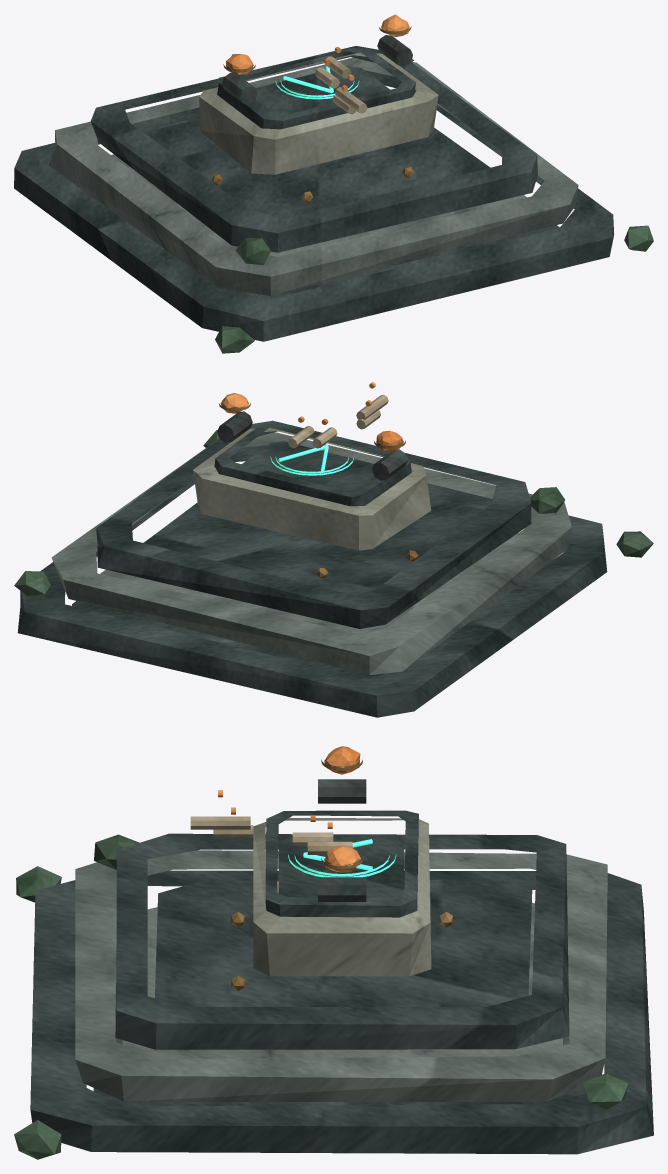
Rendered from 0475_altar_25.glb.
3 views of the same model, one above another, from view 1: azimuth 30°, elevation 25°; view 2: azimuth 150°, elevation 25°; view 3: azimuth 270°, elevation 25° (orthographic). The views are drawn at different scales.
Visible parts, largest first — view 1: stone_dark, stone, stone_light, moss, iron, bone, amber, glow, brass; view 2: stone_dark, stone, stone_light, moss, iron, bone, amber, glow; view 3: stone_dark, stone, stone_light, moss, iron, bone, amber, brass, glow.
Part boxes in pixels (x1=…): stone_dark: x1=14, y1=46, x2=614, y2=341; stone: x1=48, y1=57, x2=578, y2=296; stone_light: x1=199, y1=53, x2=438, y2=174; moss: x1=215, y1=58, x2=653, y2=353; iron: x1=222, y1=35, x2=412, y2=104; bone: x1=315, y1=56, x2=367, y2=114; amber: x1=226, y1=14, x2=409, y2=91; glow: x1=275, y1=66, x2=359, y2=99; brass: x1=211, y1=26, x2=413, y2=202; stone_dark: x1=17, y1=420, x2=607, y2=717; stone: x1=51, y1=432, x2=571, y2=674; stone_light: x1=193, y1=427, x2=431, y2=550; moss: x1=14, y1=430, x2=653, y2=598; iron: x1=217, y1=411, x2=407, y2=480; bone: x1=288, y1=394, x2=388, y2=448; amber: x1=220, y1=382, x2=403, y2=451; glow: x1=270, y1=445, x2=353, y2=475; stone_dark: x1=30, y1=810, x2=653, y2=1154; stone: x1=75, y1=850, x2=607, y2=1101; stone_light: x1=253, y1=818, x2=431, y2=976; moss: x1=14, y1=834, x2=628, y2=1159; iron: x1=318, y1=779, x2=366, y2=901; bone: x1=190, y1=816, x2=352, y2=854; amber: x1=218, y1=746, x2=360, y2=872; brass: x1=231, y1=759, x2=452, y2=990; glow: x1=288, y1=839, x2=396, y2=877.
Size of the model in its own units: 3.28 by 1.28 by 3.19.
Materials: 9 (9 with a texture image).
